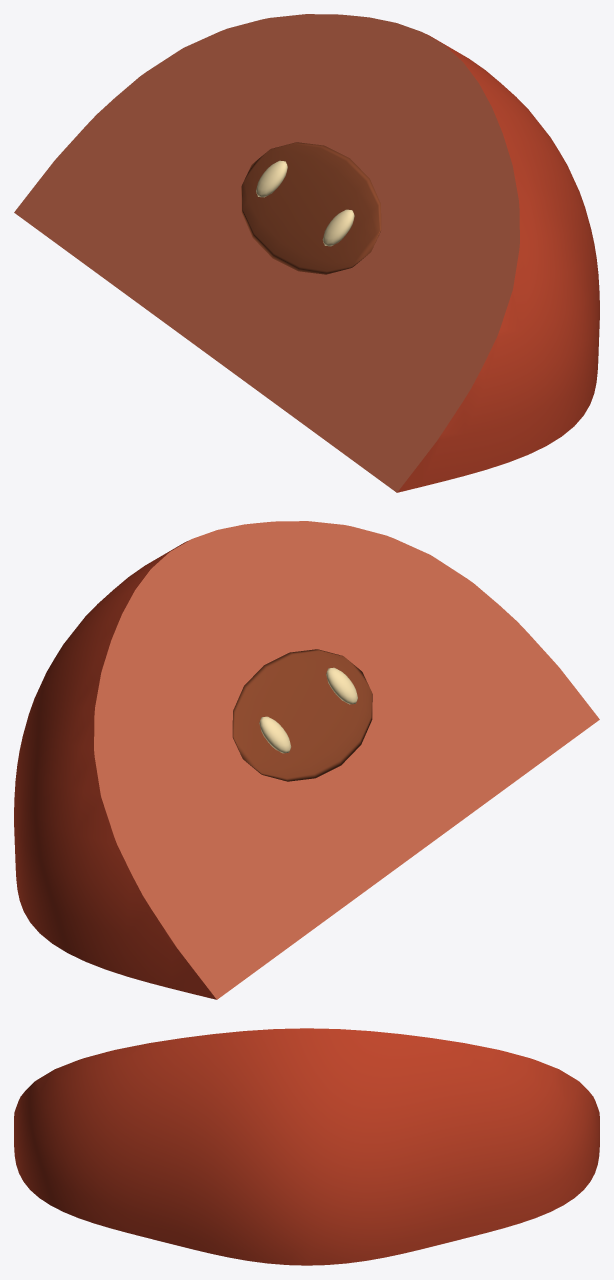
Rendered from campari_chunk.glb.
The picture shows the model from 3 angles, top to bottom: view 1: azimuth 30°, elevation 25°; view 2: azimuth 150°, elevation 25°; view 3: azimuth 270°, elevation 25°; orthographic projection. The views are drawn at different scales.
Visible parts, largest first — view 1: Campari Campari vermilion satin skin / Campari dense coral f, Campari Four Campari amber gel locules, Campari Campari small cream seeds; view 2: Campari Campari vermilion satin skin / Campari dense coral f, Campari Four Campari amber gel locules, Campari Campari small cream seeds; view 3: Campari Campari vermilion satin skin / Campari dense coral f.
Boxes of the visible parts, x1,y1,x2,y2 form: Campari Campari vermilion satin skin / Campari dense coral f: (14,14,599,492); Campari Four Campari amber gel locules: (241,142,381,274); Campari Campari small cream seeds: (256,160,354,246); Campari Campari vermilion satin skin / Campari dense coral f: (14,521,599,999); Campari Four Campari amber gel locules: (232,649,372,781); Campari Campari small cream seeds: (259,667,357,753); Campari Campari vermilion satin skin / Campari dense coral f: (14,1028,599,1265).
Bounding box in the file's own units: 0.5967 × 0.392 × 1.09.
